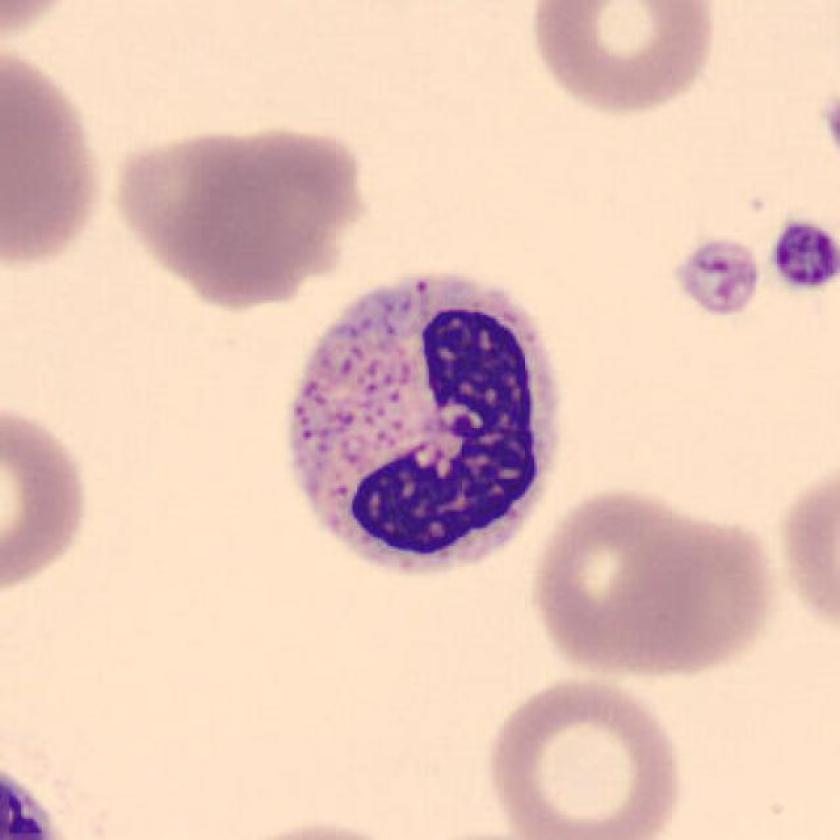neutrophil: (282, 269, 564, 576)
